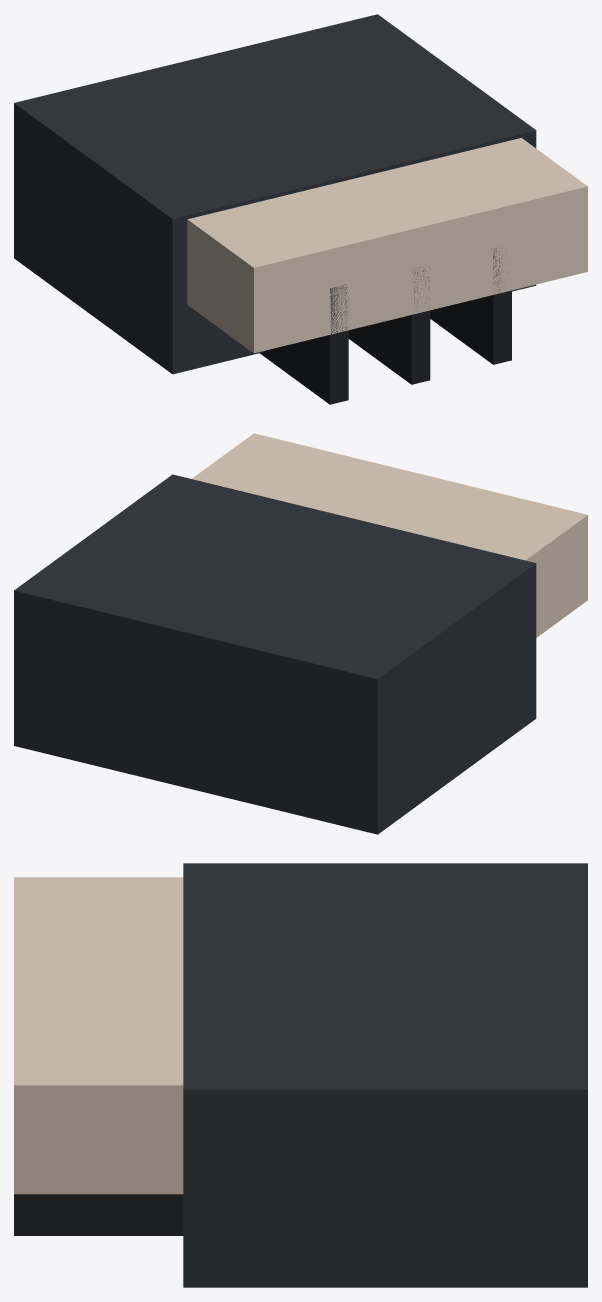
File: inf_warden_hand.fbx
The picture shows the model from 3 angles, top to bottom: view 1: azimuth 30°, elevation 25°; view 2: azimuth 150°, elevation 25°; view 3: azimuth 270°, elevation 25°; orthographic projection. The views are drawn at different scales.
Visible parts, largest first — view 1: inf_warden_hand; view 2: inf_warden_hand; view 3: inf_warden_hand.
Part boxes in pixels (left/top/right/bottom): inf_warden_hand: left=14, top=14, right=587, bottom=404; inf_warden_hand: left=14, top=433, right=587, bottom=834; inf_warden_hand: left=14, top=863, right=587, bottom=1287.
Bounding box in the file's own units: 98 × 41 × 105.
